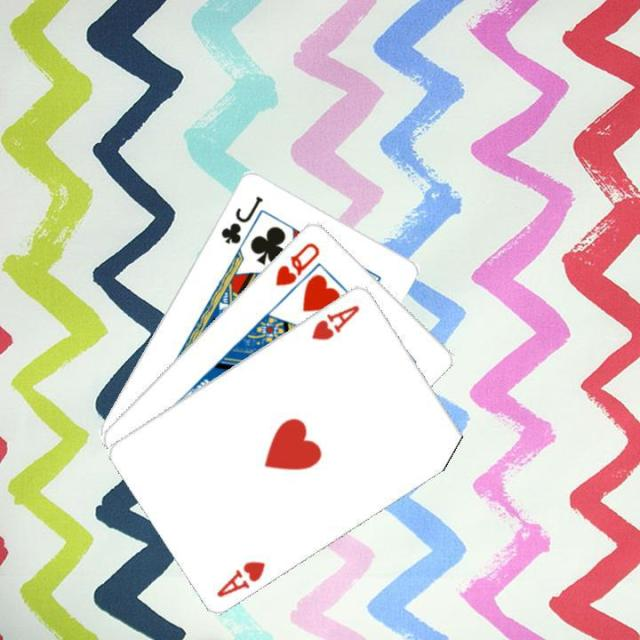AH: (306, 300, 362, 342), (212, 557, 268, 599)
JC: (216, 191, 265, 245)
QH: (271, 237, 322, 287)
